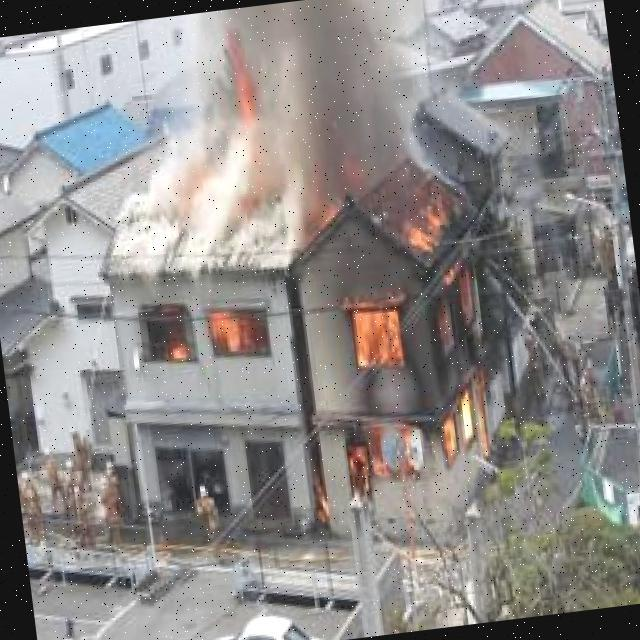Fire: (299, 179, 507, 555), (221, 43, 284, 226), (145, 311, 273, 370)
